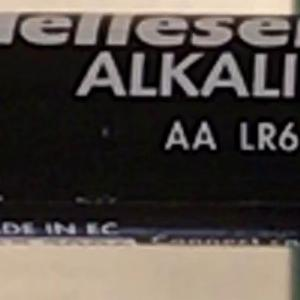keyword: (67, 44, 166, 105)
